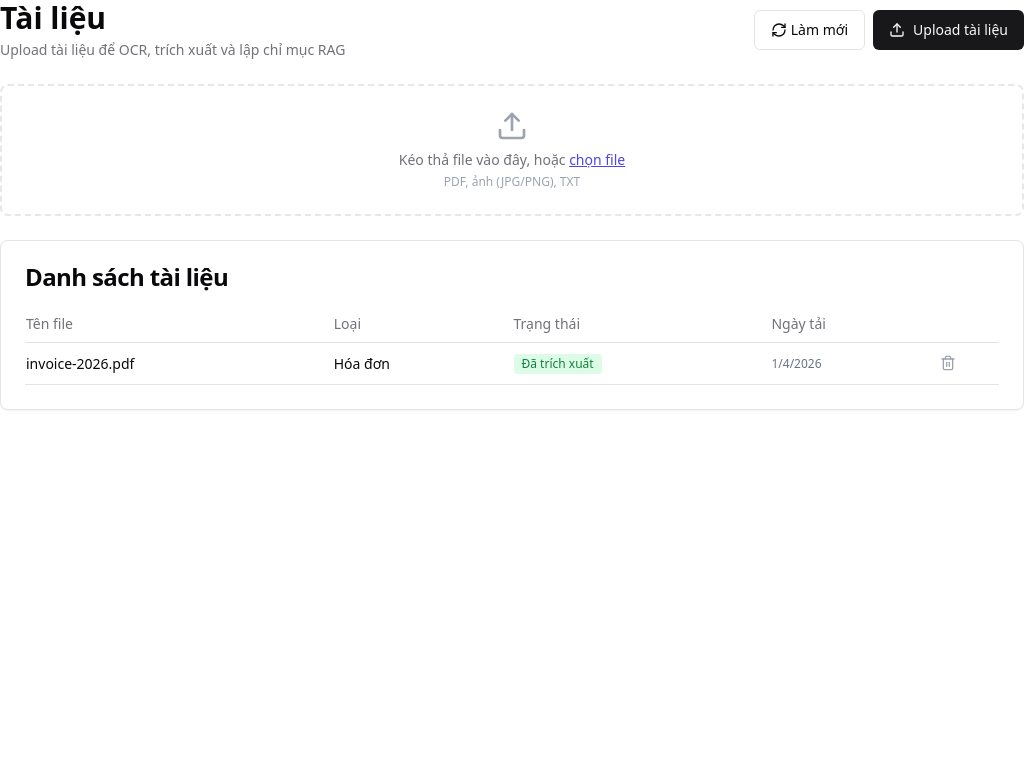
Test: HubDocumentsPage › clicking row opens detail modal with extracted data
# Click row (not delete button)
Click the text "invoice-2026.pdf".
click(80, 363)  # box [25,342,333,384]
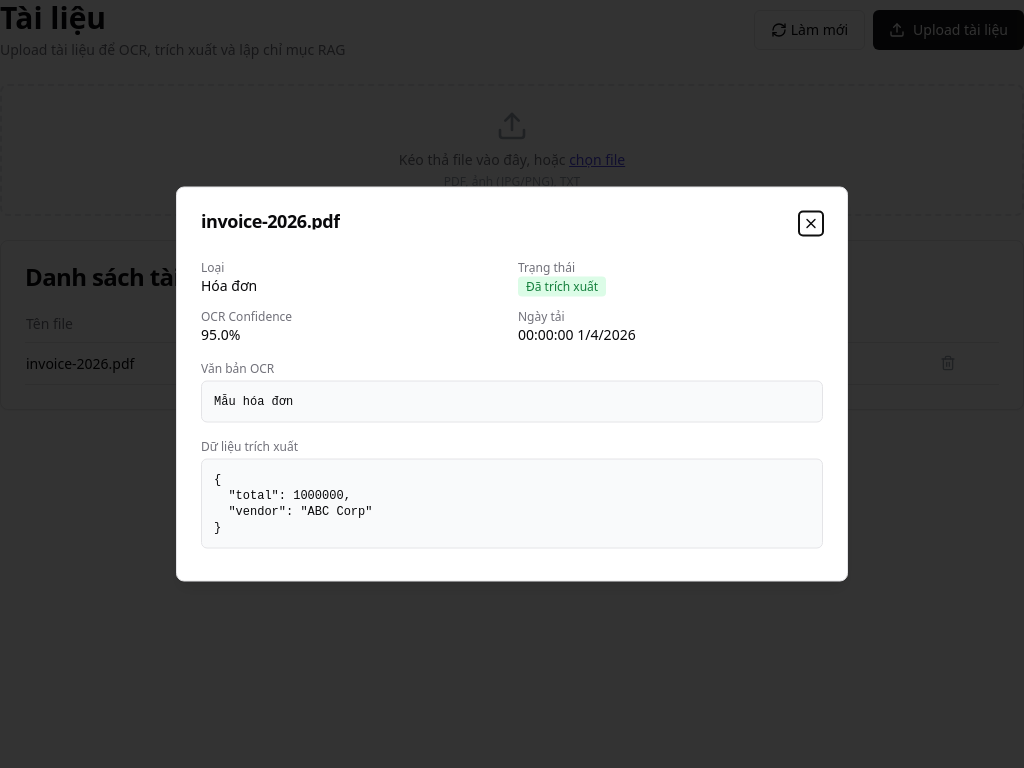
Expected: the dialog is shown, [176,186,848,582]
Expected: the text "Dữ liệu trích xuất" is shown, [201,438,298,454]
